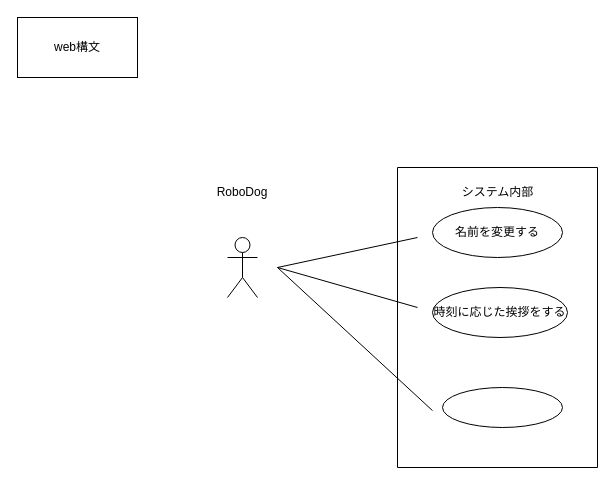
The diagram is 615 pixels wide and 485 high, and some of its shapes have lost their labels. Here are the shapes that lost their labels. From the top down, the centre of each, then its label:
At point 242,267: "ユーザー".
At point 502,407: "足し算をする".
